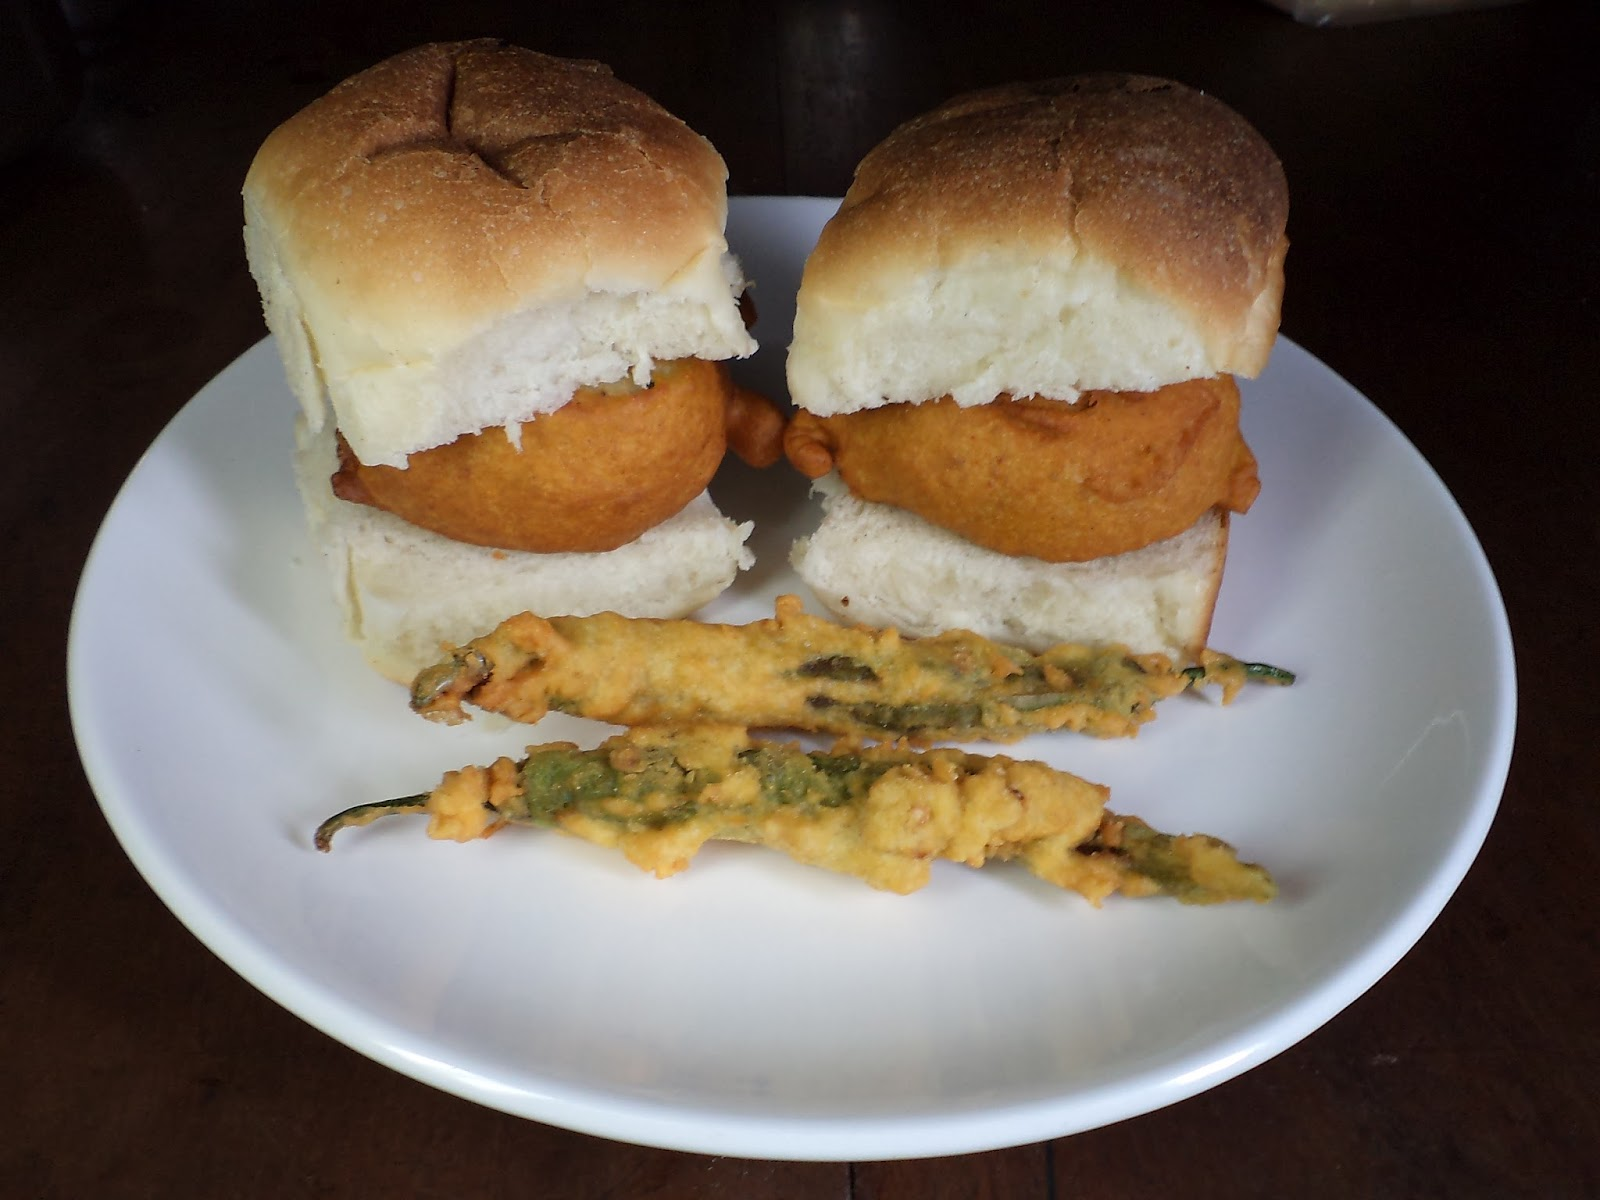vada pav: (226, 42, 753, 610), (786, 91, 1270, 630)
